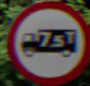Heavy Vehicles: (7, 4, 83, 78)
